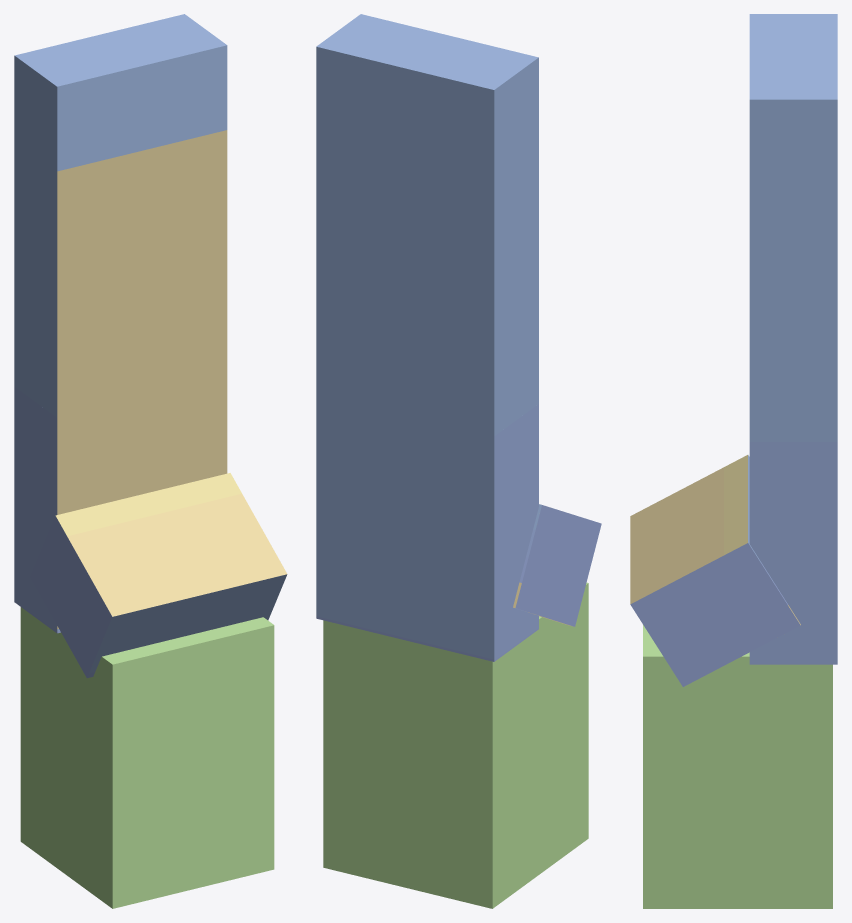
Rendered from bremmerwall.glb.
3 views of the same model, side by side, from view 1: azimuth 30°, elevation 25°; view 2: azimuth 150°, elevation 25°; view 3: azimuth 270°, elevation 25° (orthographic). The views are drawn at different scales.
Parts seen in each view (by area): view 1: S4|SM_BremerWall_Stage4#0, S6|SM_Foundation_Hesco#0, S5|SM_BremerWall_Stage5#0, S1|SM_BremerWall_Stage1#0, S3|SM_BremerWall_Stage3#0, S2|SM_BremerWall_Stage2#0; view 2: S5|SM_BremerWall_Stage5#0, S6|SM_Foundation_Hesco#0, S1|SM_BremerWall_Stage1#0, S3|SM_BremerWall_Stage3#0; view 3: S6|SM_Foundation_Hesco#0, S5|SM_BremerWall_Stage5#0, S1|SM_BremerWall_Stage1#0, S3|SM_BremerWall_Stage3#0, S4|SM_BremerWall_Stage4#0, S2|SM_BremerWall_Stage2#0.
Part boxes in pixels (x1,y1,x2,y2): S4|SM_BremerWall_Stage4#0: [57, 130, 286, 629]; S6|SM_Foundation_Hesco#0: [20, 607, 274, 908]; S5|SM_BremerWall_Stage5#0: [14, 14, 287, 673]; S1|SM_BremerWall_Stage1#0: [14, 387, 94, 678]; S3|SM_BremerWall_Stage3#0: [14, 516, 112, 677]; S2|SM_BremerWall_Stage2#0: [55, 473, 241, 536]; S5|SM_BremerWall_Stage5#0: [316, 14, 541, 659]; S6|SM_Foundation_Hesco#0: [323, 582, 588, 908]; S1|SM_BremerWall_Stage1#0: [494, 404, 538, 660]; S3|SM_BremerWall_Stage3#0: [316, 505, 601, 661]; S6|SM_Foundation_Hesco#0: [643, 625, 832, 908]; S5|SM_BremerWall_Stage5#0: [748, 14, 837, 562]; S1|SM_BremerWall_Stage1#0: [749, 442, 837, 663]; S3|SM_BremerWall_Stage3#0: [630, 543, 837, 686]; S4|SM_BremerWall_Stage4#0: [630, 467, 800, 625]; S2|SM_BremerWall_Stage2#0: [724, 455, 747, 555].
Size of the model in its own units: 1.51 by 6.49 by 1.5.
